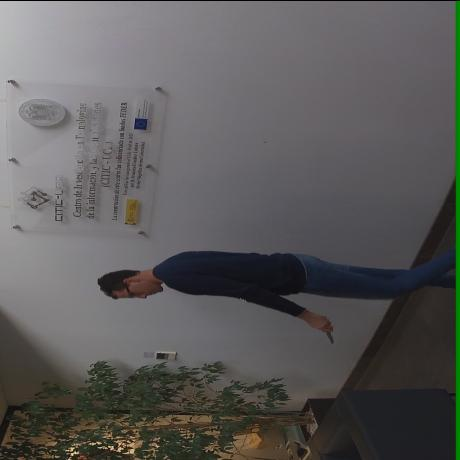1: (93, 244, 460, 343)
weapon: (318, 315, 334, 344)
